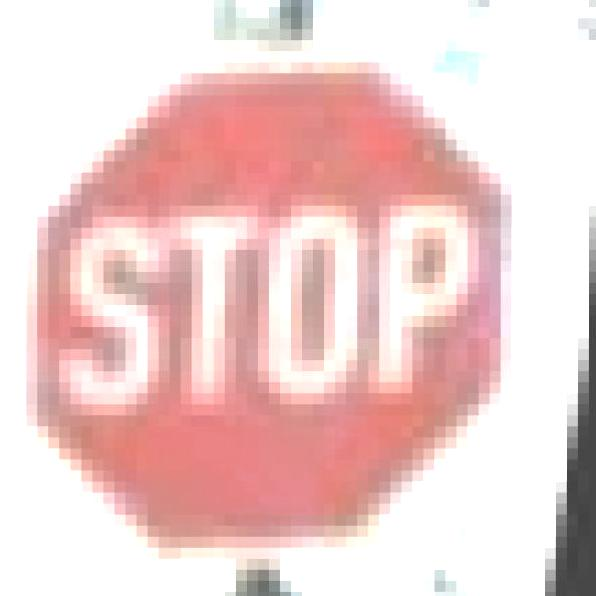stop_sign: (0, 29, 578, 581)
